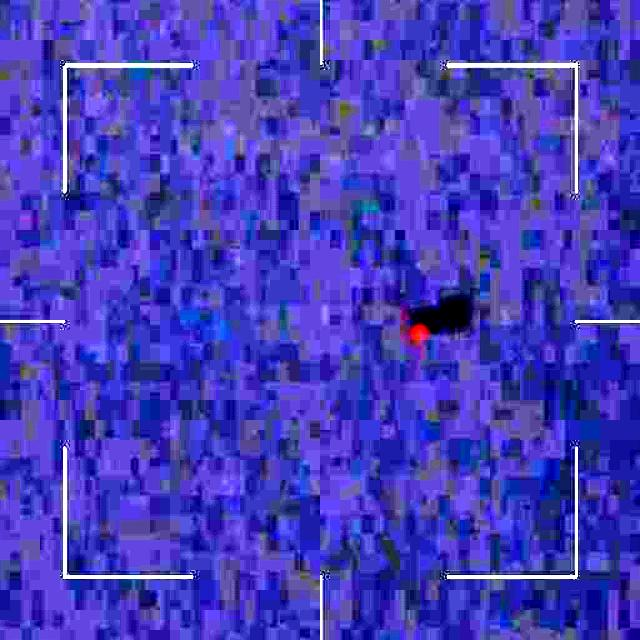bird: (401, 314, 434, 358)
